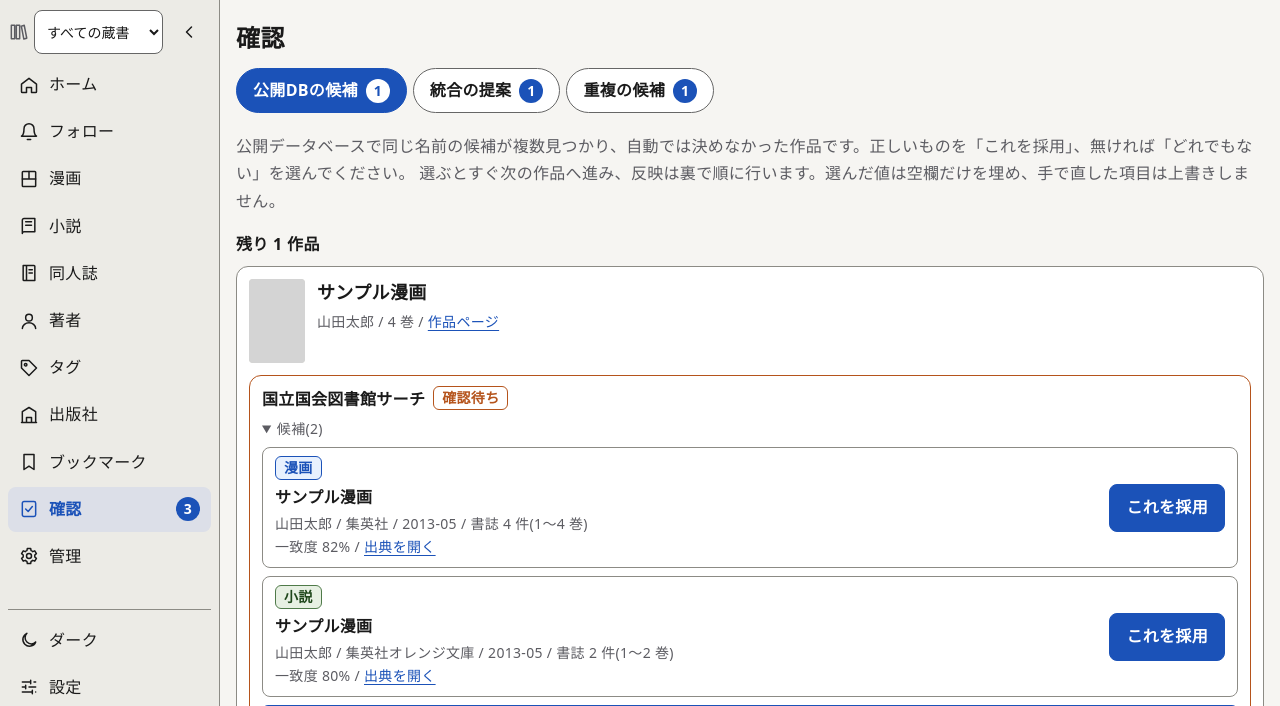
確認 › 公開DBの候補を作品ページを開かずに選ぶと、確認済みに畳まれ件数が減る
The width and height of the screenshot is (1280, 706).
Check: the heading "確認" is shown, box [236,20,285,56]
Check: the message reads "残り 1 作品", box [236,233,320,255]
Click the button "これを採用" in the row of "山田太郎 / 集英社 / 2013-05 / 書誌 4 件(1〜4 巻)": [1167, 508] box [1109,484,1225,532]
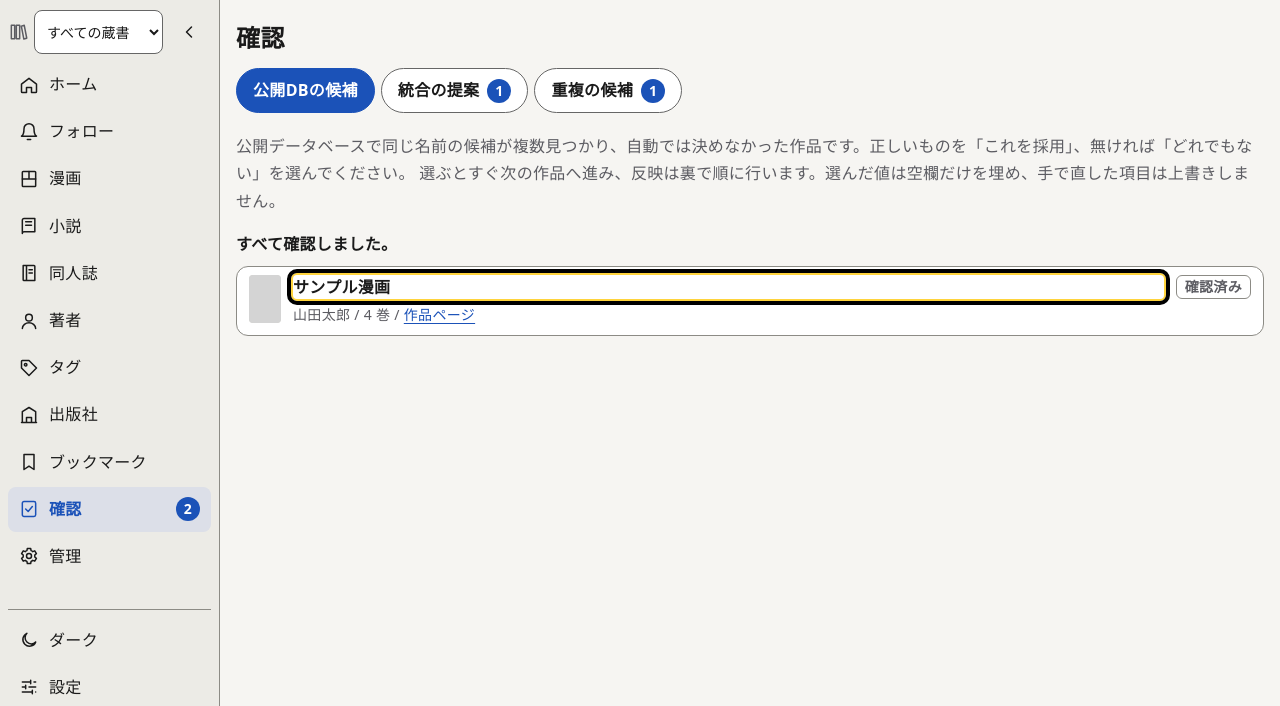
Check: the heading "サンプル漫画" is shown, box [293,275,1164,299]
Check: the text "確認済み" is shown, box [1176,275,1251,299]
Check: the message reads "すべて確認しました。", box [236,233,398,255]
